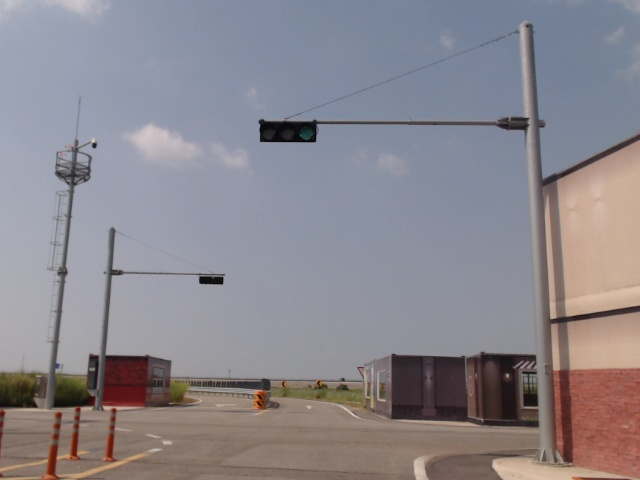green_3: (260, 120, 317, 143)
